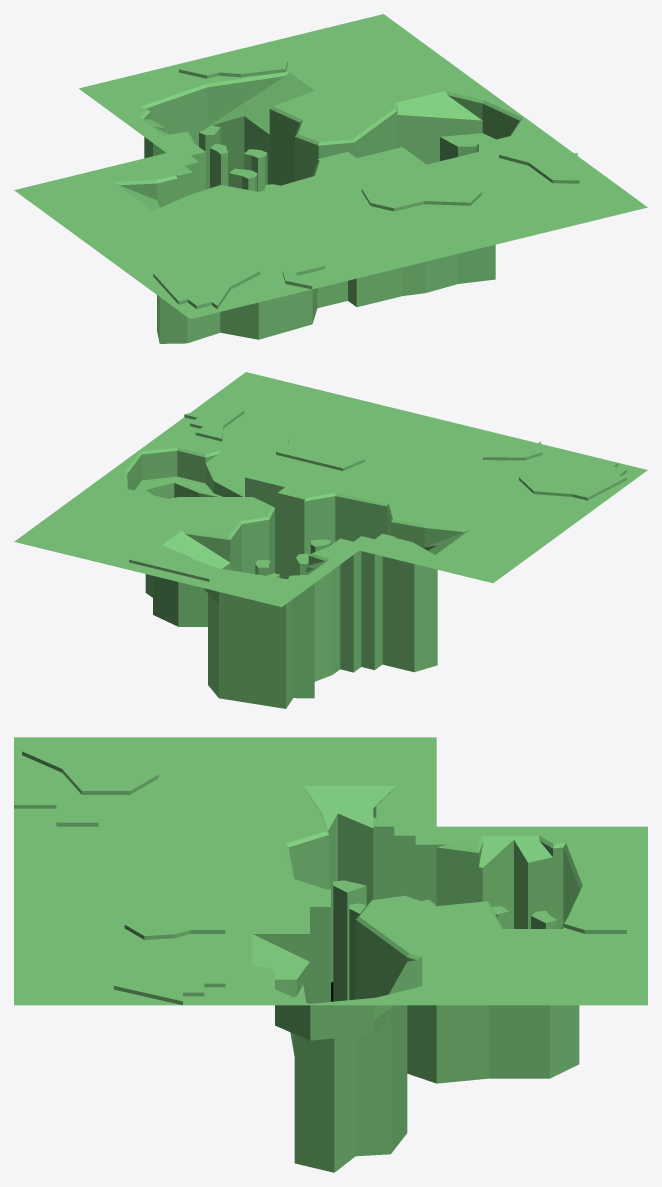
File: x_oo_ground_35_Y5_1_rmstrd.fbx
3 renders of one model, top to bottom at view 1: azimuth 30°, elevation 25°; view 2: azimuth 150°, elevation 25°; view 3: azimuth 270°, elevation 25°, orthographic. The views are drawn at different scales.
Parts seen in each view (by area): view 1: x_oo_ground_35_Y5_1_rmstrd1; view 2: x_oo_ground_35_Y5_1_rmstrd1; view 3: x_oo_ground_35_Y5_1_rmstrd1.
Boxes of the visible parts, <box> form: x_oo_ground_35_Y5_1_rmstrd1: <box>14,14,647,343</box>; x_oo_ground_35_Y5_1_rmstrd1: <box>14,372,647,708</box>; x_oo_ground_35_Y5_1_rmstrd1: <box>14,737,647,1172</box>.
Bounding box in the file's own units: 30 × 9.54 × 30.
